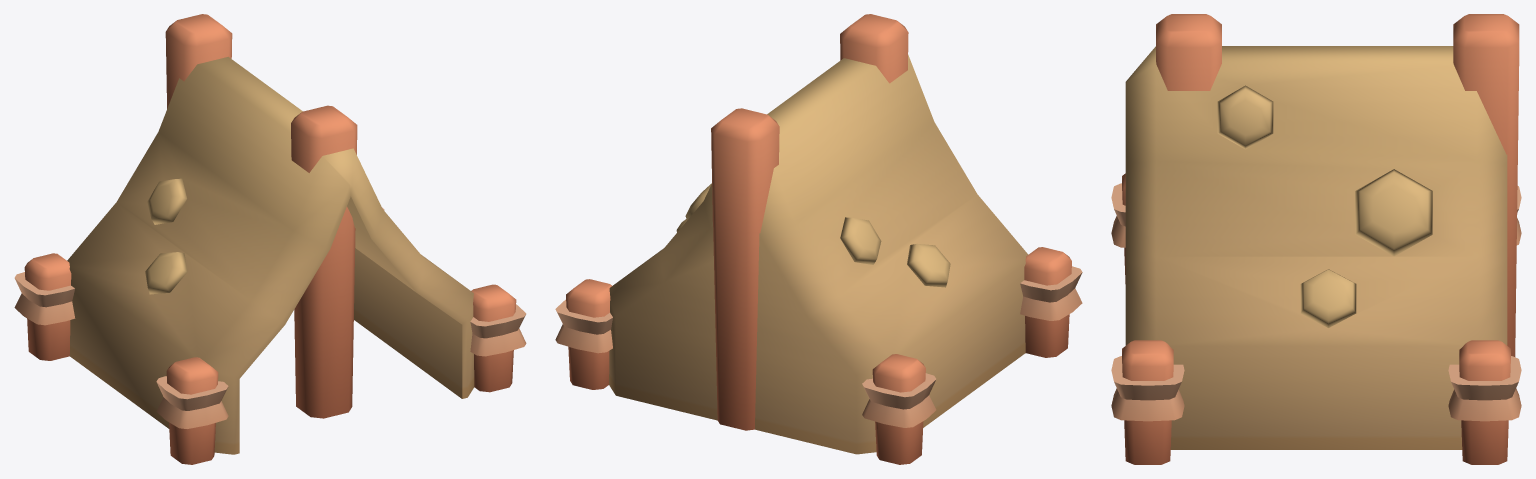
The model's file is mf_tent-warm.glb.
The picture shows the model from 3 angles, left to right: view 1: azimuth 30°, elevation 25°; view 2: azimuth 150°, elevation 25°; view 3: azimuth 270°, elevation 25°; orthographic projection. The views are drawn at different scales.
Parts seen in each view (by area): view 1: tent; view 2: tent; view 3: tent.
Boxes of the visible parts, x1,y1,x2,y2 form: tent: (14, 14, 526, 464); tent: (555, 14, 1082, 464); tent: (1111, 14, 1521, 464).
Bounding box in the file's own units: 1.26 × 1 × 1.07.
Materials: 1 (1 with a texture image).
